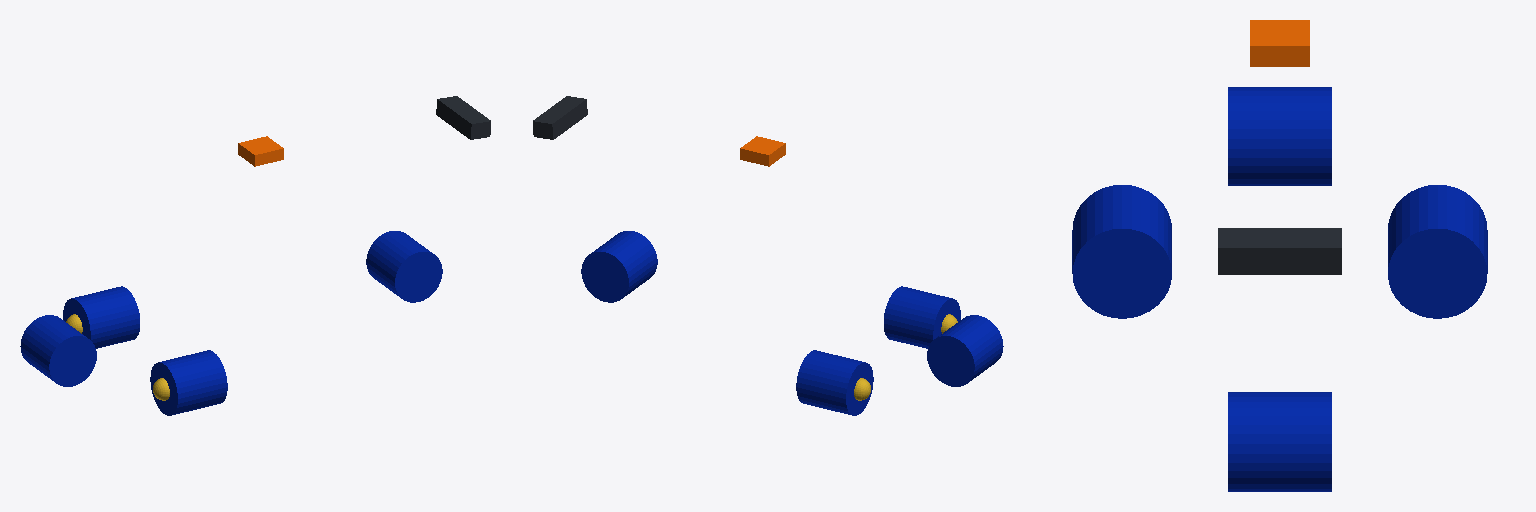
The robot description file, URDF, robot "hugr_optimus":
<?xml version="1.0" ?>
<!-- =================================================================================== -->
<!-- |    This document was autogenerated by xacro from /mnt/c/Users/julia/OneDrive - unizar.es/Documentos/ERASMUS/SEABOTICS/hugr_optimus/optimus_ws/src/hugr_description/urdf/hugr.urdf.xacro | -->
<!-- |    EDITING THIS FILE BY HAND IS NOT RECOMMENDED                                 | -->
<!-- =================================================================================== -->
<robot name="hugr_optimus">
  <!-- ================= MATERIALS ================= -->
  <material name="marine_orange">
    <color rgba="0.95 0.45 0.05 1.0"/>
  </material>
  <material name="dark_grey">
    <color rgba="0.2 0.22 0.25 1.0"/>
  </material>
  <material name="aluminum">
    <color rgba="0.65 0.7 0.75 1.0"/>
  </material>
  <material name="thruster_blue">
    <color rgba="0.05 0.2 0.7 1.0"/>
  </material>
  <material name="propeller_gold">
    <color rgba="0.85 0.7 0.2 1.0"/>
  </material>
  <!-- ================= BASE FOOTPRINT & BASE LINK ================= -->
  <!-- base_footprint is on the calm water surface (Z=0) -->
  <link name="base_footprint"/>
  <joint name="base_footprint_joint" type="fixed">
    <parent link="base_footprint"/>
    <child link="base_link"/>
    <origin rpy="0 0 0" xyz="0 0 0.08"/>
  </joint>
  <!-- base_link is located at the vessel Center of Gravity (CG) -->
  <link name="base_link">
    <!-- Authentic 3D CAD Mesh imported from OnShape STEP model (Ferdig assembly.step) -->
    <visual>
      <origin rpy="0 0 -1.5708" xyz="0 0 0"/>
      <geometry>
        <mesh filename="package://hugr_description/meshes/frame.stl" scale="1.0 1.0 1.0"/>
      </geometry>
      <material name="aluminum"/>
    </visual>
    <collision>
      <origin rpy="0 0 0" xyz="0 0 -0.1"/>
      <geometry>
        <box size="1.00 0.69 0.54"/>
      </geometry>
    </collision>
    <inertial>
      <origin rpy="0 0 0" xyz="0 0 0"/>
      <mass value="28.0"/>
      <!-- Vessel inertia (kg*m^2) based on CAD physical mass properties -->
      <inertia ixx="1.8" ixy="0.0" ixz="0.0" iyy="4.5" iyz="0.0" izz="5.2"/>
    </inertial>
  </link>
  <!-- ================= 4-THRUSTER PROPULSION CONFIGURATION ================= -->
  <!-- Matches ESP32 micro-ROS /motor_pwms topic: [M1: Port, M2: Starboard, M3: Bow Transverse, M4: Stern Transverse] -->
  <!-- Positioned exactly at BlueRobotics T200 thruster mount coordinates extracted from CAD STEP model -->
  <!-- MOTOR 1: Port Main Longitudinal Thruster (T_200_202, +Y Side, Pushes Surge +X) -->
  <link name="port_main_thruster_link">
    <visual>
      <origin rpy="0 1.5708 0" xyz="0 0 0"/>
      <geometry>
        <cylinder length="0.10" radius="0.048"/>
      </geometry>
      <material name="thruster_blue"/>
    </visual>
    <visual>
      <origin rpy="0 1.5708 0" xyz="-0.05 0 0"/>
      <geometry>
        <sphere radius="0.02"/>
      </geometry>
      <material name="propeller_gold"/>
    </visual>
  </link>
  <joint name="port_main_thruster_joint" type="fixed">
    <parent link="base_link"/>
    <child link="port_main_thruster_link"/>
    <origin rpy="0 0 0" xyz="-0.2323 0.1518 -0.3379"/>
  </joint>
  <!-- MOTOR 2: Starboard Main Longitudinal Thruster (T_200, -Y Side, Pushes Surge +X) -->
  <link name="starboard_main_thruster_link">
    <visual>
      <origin rpy="0 1.5708 0" xyz="0 0 0"/>
      <geometry>
        <cylinder length="0.10" radius="0.048"/>
      </geometry>
      <material name="thruster_blue"/>
    </visual>
    <visual>
      <origin rpy="0 1.5708 0" xyz="-0.05 0 0"/>
      <geometry>
        <sphere radius="0.02"/>
      </geometry>
      <material name="propeller_gold"/>
    </visual>
  </link>
  <joint name="starboard_main_thruster_joint" type="fixed">
    <parent link="base_link"/>
    <child link="starboard_main_thruster_link"/>
    <origin rpy="0 0 0" xyz="-0.2323 -0.1518 -0.3379"/>
  </joint>
  <!-- MOTOR 3: Bow Transverse Tunnel Thruster (T_200_203, Front Center, Pushes Sway +/-Y) -->
  <link name="bow_transverse_thruster_link">
    <visual>
      <!-- Transverse Tunnel oriented along Y-axis -->
      <origin rpy="1.5708 0 0" xyz="0 0 0"/>
      <geometry>
        <cylinder length="0.10" radius="0.048"/>
      </geometry>
      <material name="thruster_blue"/>
    </visual>
    <visual>
      <!-- Central Impeller Hub -->
      <origin rpy="0 0 0" xyz="0 0 0"/>
      <geometry>
        <sphere radius="0.025"/>
      </geometry>
      <material name="propeller_gold"/>
    </visual>
  </link>
  <joint name="bow_transverse_thruster_joint" type="fixed">
    <parent link="base_link"/>
    <child link="bow_transverse_thruster_link"/>
    <origin rpy="0 0 0" xyz="0.2884 0.0 -0.2969"/>
  </joint>
  <!-- MOTOR 4: Stern Transverse Tunnel Thruster (T_201, Rear Center, Pushes Sway +/-Y) -->
  <link name="stern_transverse_thruster_link">
    <visual>
      <!-- Transverse Tunnel oriented along Y-axis -->
      <origin rpy="1.5708 0 0" xyz="0 0 0"/>
      <geometry>
        <cylinder length="0.10" radius="0.048"/>
      </geometry>
      <material name="thruster_blue"/>
    </visual>
    <visual>
      <!-- Central Impeller Hub -->
      <origin rpy="0 0 0" xyz="0 0 0"/>
      <geometry>
        <sphere radius="0.025"/>
      </geometry>
      <material name="propeller_gold"/>
    </visual>
  </link>
  <joint name="stern_transverse_thruster_joint" type="fixed">
    <parent link="base_link"/>
    <child link="stern_transverse_thruster_link"/>
    <origin rpy="0 0 0" xyz="-0.4066 0.0 -0.2969"/>
  </joint>
  <!-- ================= SENSORS: IMU & CAMERA ================= -->
  <!-- 1. IMU Frame (Xsens MTi-680G on vessel CG) -->
  <link name="imu_link">
    <visual>
      <origin rpy="0 0 0" xyz="0 0 0.01"/>
      <geometry>
        <box size="0.058 0.058 0.022"/>
      </geometry>
      <material name="marine_orange"/>
    </visual>
  </link>
  <joint name="imu_joint" type="fixed">
    <parent link="base_link"/>
    <child link="imu_link"/>
    <origin rpy="0 0 0" xyz="0.0 0.0 -0.0184"/>
  </joint>
  <!-- 2. Front Luxonis OAK-D Camera Frame (CAD OKE-D Pro W) -->
  <link name="camera_link">
    <visual>
      <origin rpy="0 0 0" xyz="0 0 0"/>
      <geometry>
        <box size="0.04 0.12 0.03"/>
      </geometry>
      <material name="dark_grey"/>
    </visual>
  </link>
  <joint name="camera_joint" type="fixed">
    <parent link="base_link"/>
    <child link="camera_link"/>
    <origin rpy="0 0.08 0" xyz="0.4076 0.0 -0.0391"/>
  </joint>
  <link name="camera_optical_frame"/>
  <joint name="camera_optical_joint" type="fixed">
    <parent link="camera_link"/>
    <child link="camera_optical_frame"/>
    <origin rpy="-1.5708 0 -1.5708" xyz="0 0 0"/>
  </joint>
</robot>

--- What the picture shows (computed from the rendered views, not written in the file) ---
3 views of the same robot in one strip: view 1: azimuth 30°, elevation 25°; view 2: azimuth 150°, elevation 25°; view 3: azimuth 270°, elevation 25° (orthographic).
Robot: hugr_optimus — 9 links, 8 joints (8 fixed); root link base_footprint; default pose: all joints at 0.
Links seen in each view (by area): view 1: starboard_main_thruster_link, bow_transverse_thruster_link, stern_transverse_thruster_link, port_main_thruster_link, camera_link, imu_link; view 2: port_main_thruster_link, bow_transverse_thruster_link, stern_transverse_thruster_link, starboard_main_thruster_link, camera_link, imu_link; view 3: port_main_thruster_link, starboard_main_thruster_link, bow_transverse_thruster_link, stern_transverse_thruster_link, camera_link, imu_link.
Boxes of the visible links, <box> form: starboard_main_thruster_link: <box>150,350,227,415</box>; bow_transverse_thruster_link: <box>366,231,442,302</box>; stern_transverse_thruster_link: <box>20,315,96,386</box>; port_main_thruster_link: <box>63,286,139,348</box>; camera_link: <box>436,96,490,139</box>; imu_link: <box>238,136,283,166</box>; port_main_thruster_link: <box>796,350,873,415</box>; bow_transverse_thruster_link: <box>581,231,657,302</box>; stern_transverse_thruster_link: <box>927,315,1003,386</box>; starboard_main_thruster_link: <box>884,286,960,348</box>; camera_link: <box>533,96,587,139</box>; imu_link: <box>740,136,785,166</box>; port_main_thruster_link: <box>1388,185,1487,318</box>; starboard_main_thruster_link: <box>1072,185,1171,318</box>; bow_transverse_thruster_link: <box>1228,392,1331,491</box>; stern_transverse_thruster_link: <box>1228,87,1331,185</box>; camera_link: <box>1218,228,1341,274</box>; imu_link: <box>1250,20,1309,66</box>.
Bounding box of the posed robot: 0.8833 × 0.3996 × 0.3885 m (x, y, z).
Meshes: 1 distinct files referenced, 0 mesh visuals loaded (none loaded); not drawn: 1 (reference not matched to a file when rendering).
